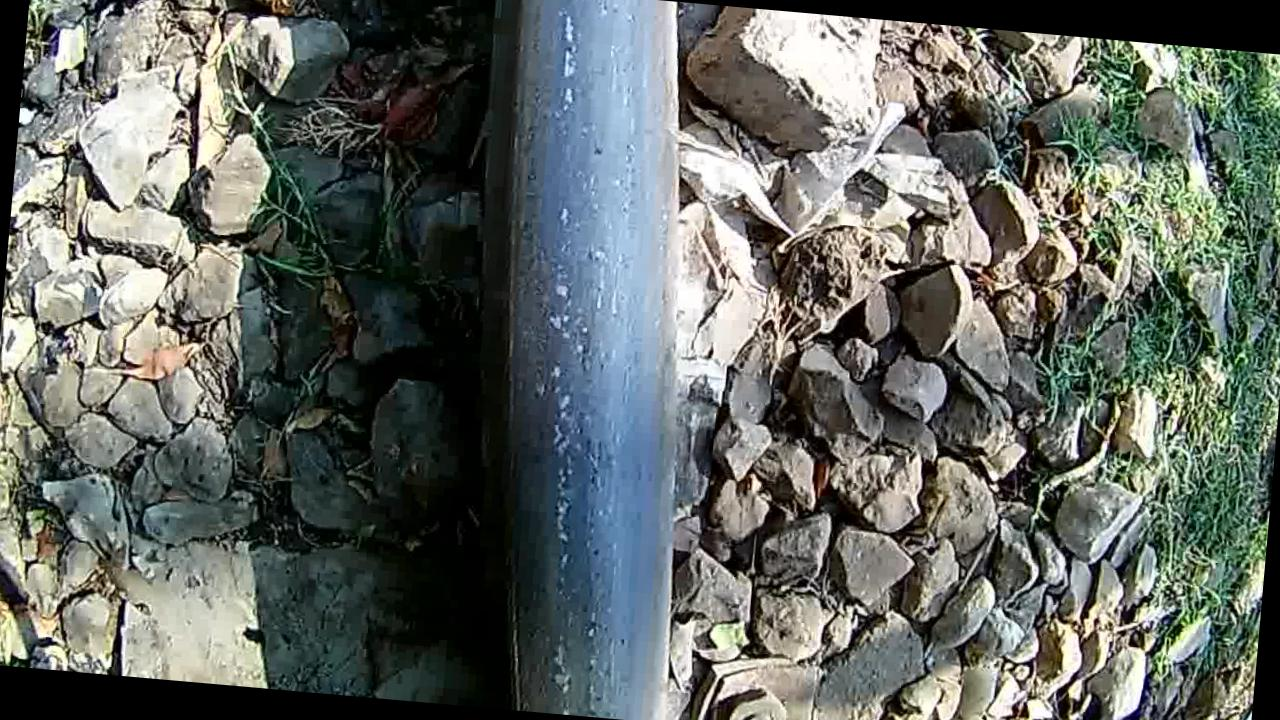clip_missing: (455, 0, 716, 720)
